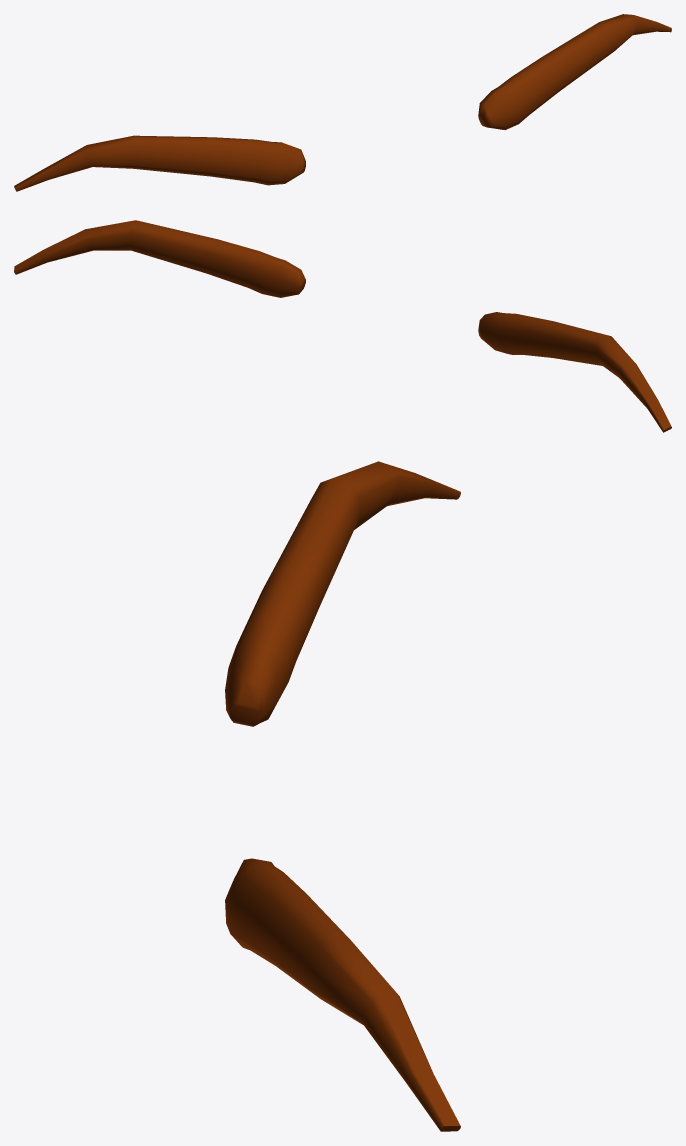
Rendered from Eyebrows_14_02.fbx.
3 views of the same model, one above another, from view 1: azimuth 30°, elevation 25°; view 2: azimuth 150°, elevation 25°; view 3: azimuth 270°, elevation 25° (orthographic). The views are drawn at different scales.
Parts seen in each view (by area): view 1: Eyebrows_14_02; view 2: Eyebrows_14_02; view 3: Eyebrows_14_02.
Part boxes in pixels (x1=…): Eyebrows_14_02: x1=14, y1=14, x2=671, y2=191; Eyebrows_14_02: x1=14, y1=220, x2=671, y2=432; Eyebrows_14_02: x1=225, y1=461, x2=460, y2=1131.
Size of the model in its own units: 19.11 by 1.7 by 2.97.
